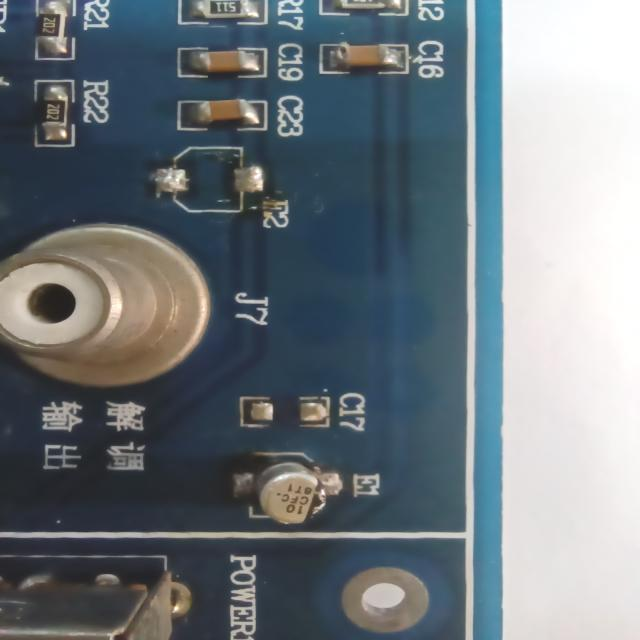Missing component: (148, 138, 302, 236), (228, 382, 388, 446)
